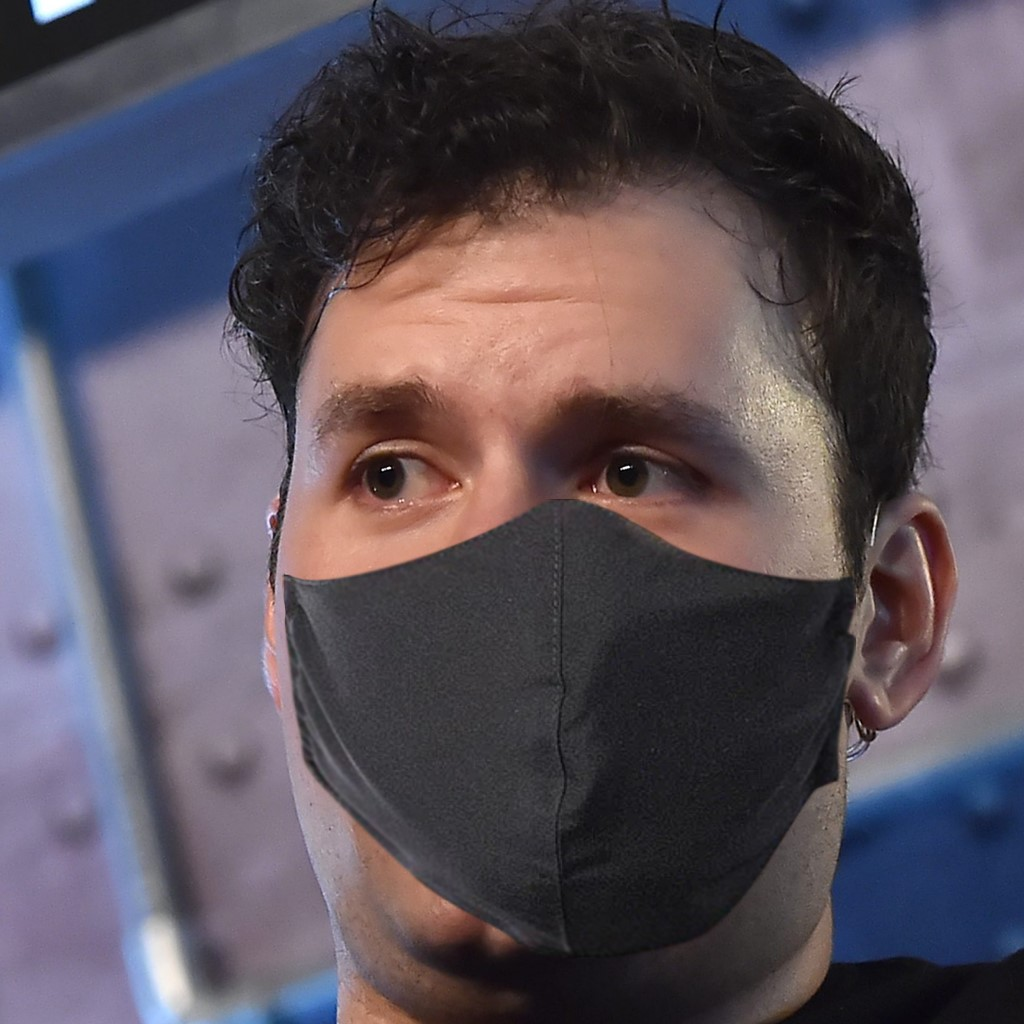con_mascara: (292, 123, 895, 957)
